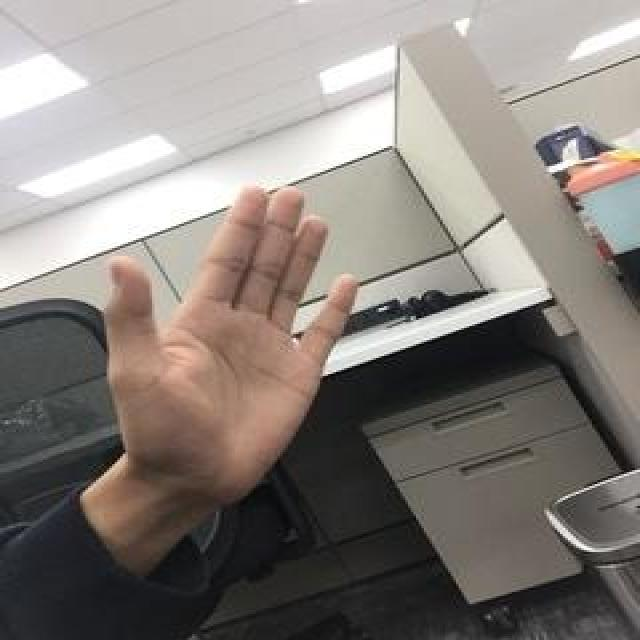hand: (97, 182, 359, 502)
